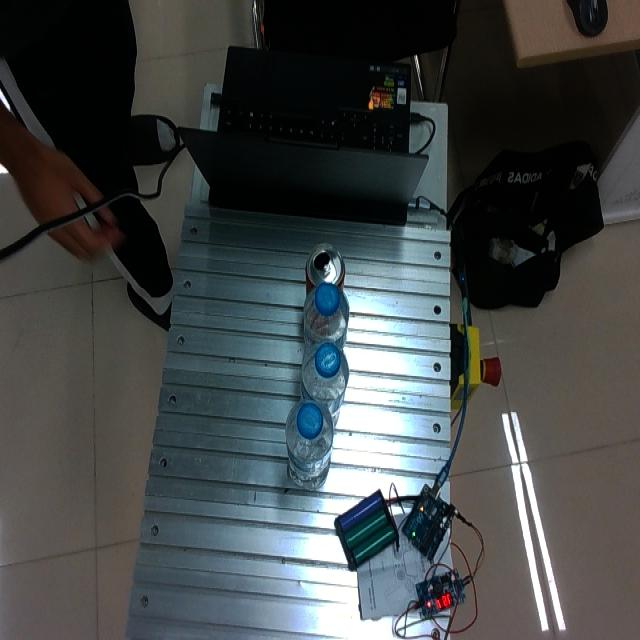coca: (304, 243, 347, 297)
lavie: (285, 395, 336, 488), (300, 341, 349, 419), (302, 283, 350, 352)
